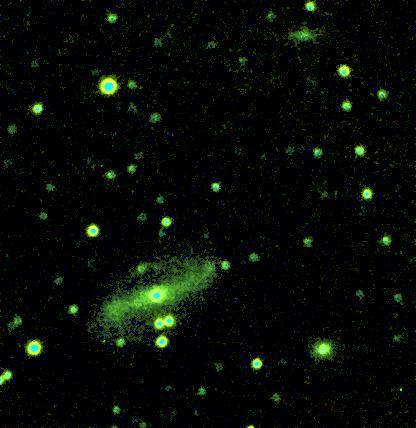star: (386, 373, 416, 403)
